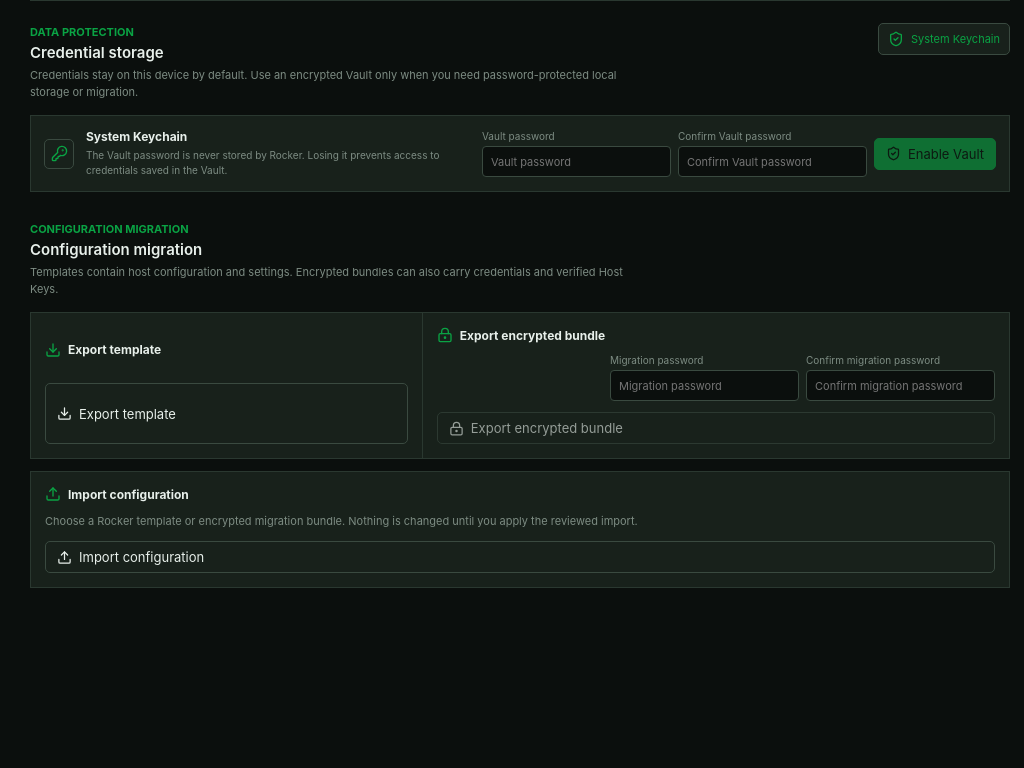
DataProtectionSettings › reports a cancelled export without styling it as an error
Step 1. Click the button "Export template" → (127, 414), box [45, 383, 408, 444]
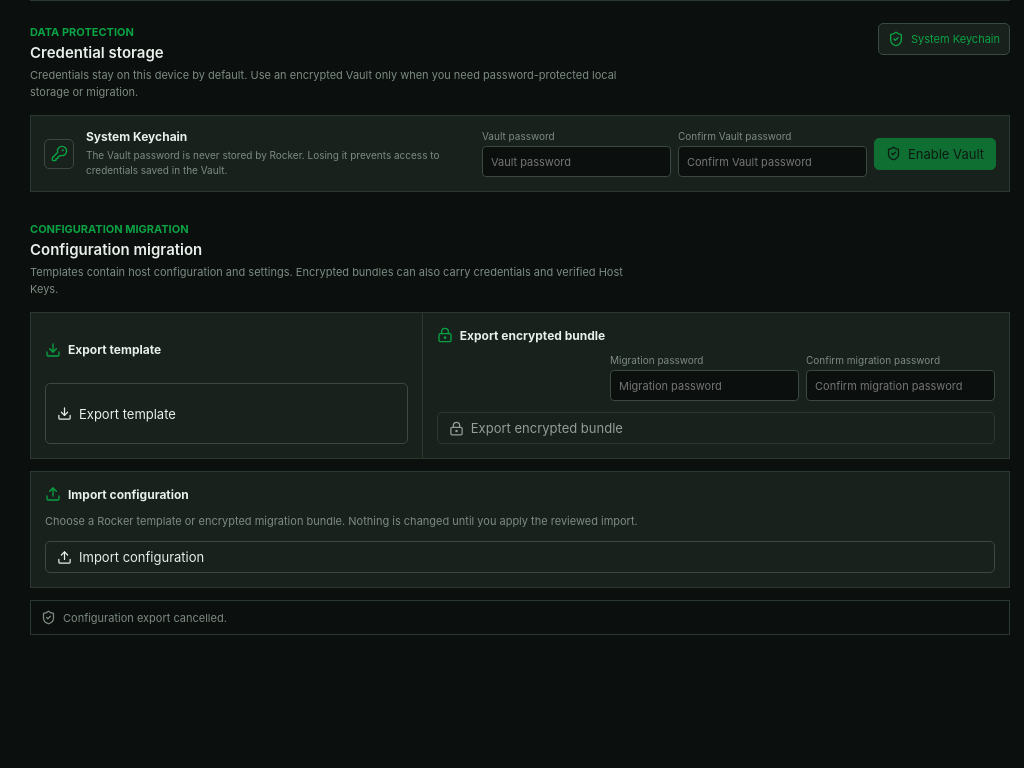
Result: the message reads "Configuration export cancelled." at [63, 611, 227, 625]
